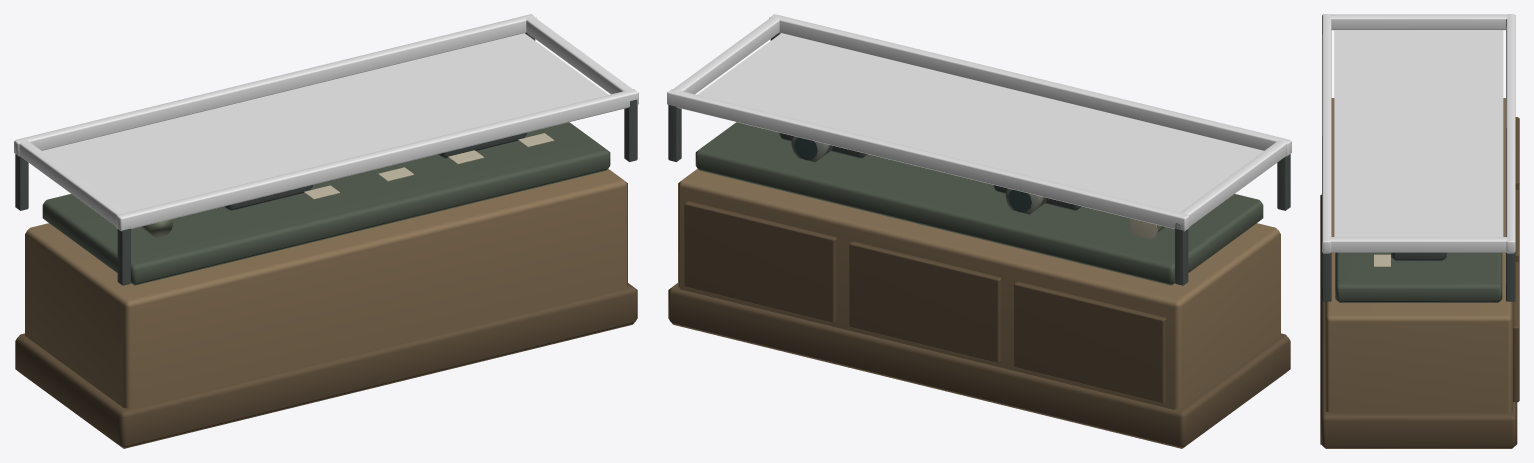
Rendered from PawnDisplay_Electronics62.fbx.
3 views of the same model, side by side, from view 1: azimuth 30°, elevation 25°; view 2: azimuth 150°, elevation 25°; view 3: azimuth 270°, elevation 25° (orthographic). The views are drawn at different scales.
Parts seen in each view (by area): view 1: PawnDisplay_Electronics62; view 2: PawnDisplay_Electronics62; view 3: PawnDisplay_Electronics62.
Boxes of the visible parts, x1,y1,x2,y2 form: PawnDisplay_Electronics62: [14, 14, 638, 448]; PawnDisplay_Electronics62: [667, 14, 1291, 448]; PawnDisplay_Electronics62: [1320, 14, 1519, 448].
Bounding box in the file's own units: 252 × 108 × 93.05.
